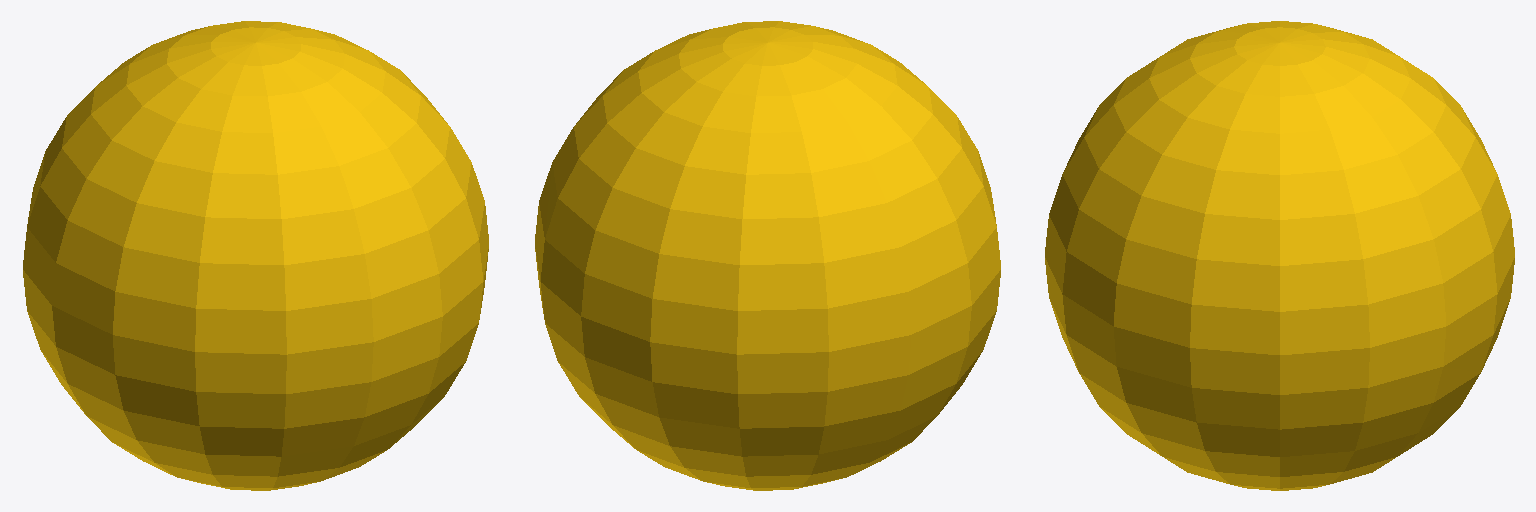
3 views of the same model, side by side, from view 1: azimuth 30°, elevation 25°; view 2: azimuth 150°, elevation 25°; view 3: azimuth 270°, elevation 25° (orthographic).
Parts seen in each view (by area): view 1: Sphere; view 2: Sphere; view 3: Sphere.
Boxes of the visible parts, <box> form: Sphere: <box>23,21,488,490</box>; Sphere: <box>535,21,1000,490</box>; Sphere: <box>1045,21,1514,490</box>.
Size of the model in its own units: 1 by 1 by 1.
Materials: 1 (1 with a texture image).